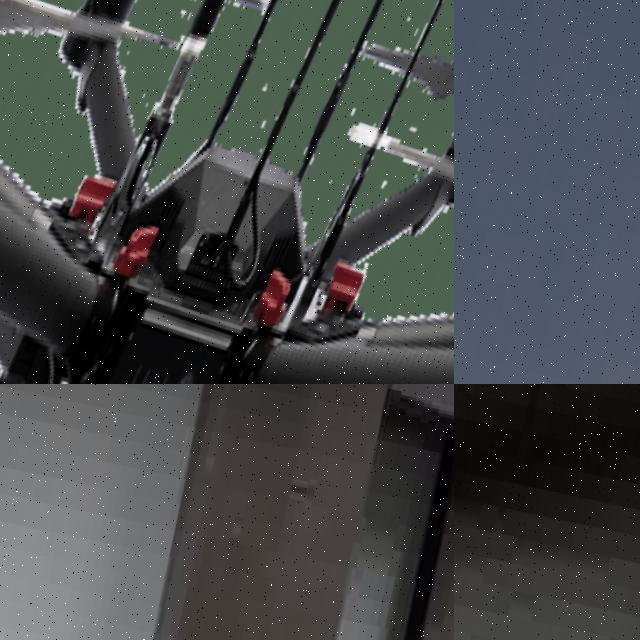drone: (0, 0, 454, 384)
